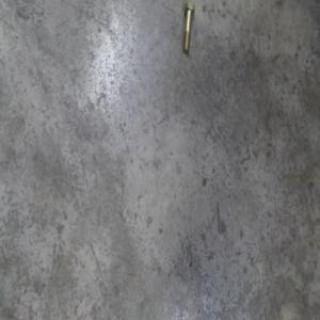Bolttrack_idkeyframe: (180, 7, 195, 57)
